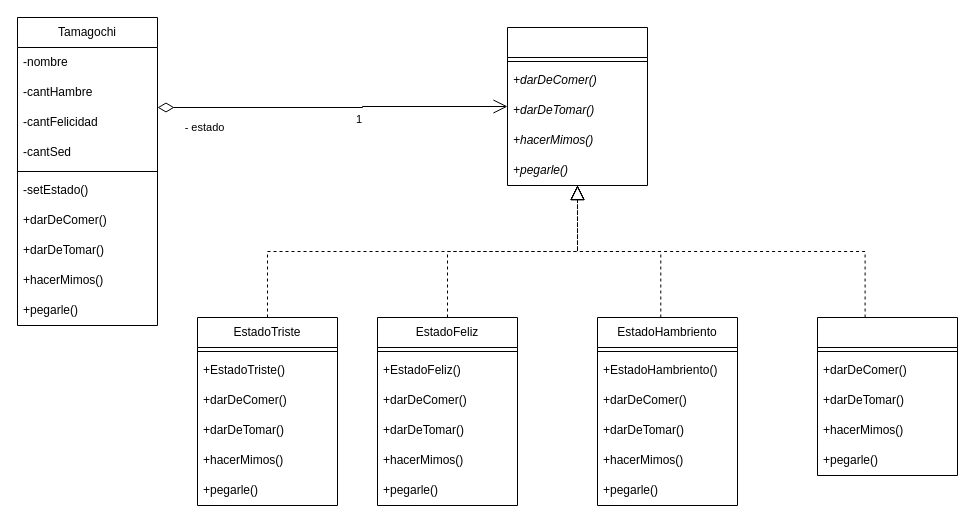
The diagram is 975 pixels wide and 523 high, and some of its shapes have lost their labels. The shapes that lost their labels are listed below. From the top down, each one's box as (x1, y1, x2, y2) in pixels, then its label:
(506, 26, 648, 186): <<Interface>> Estado
(816, 316, 958, 476): EstadoSediento
